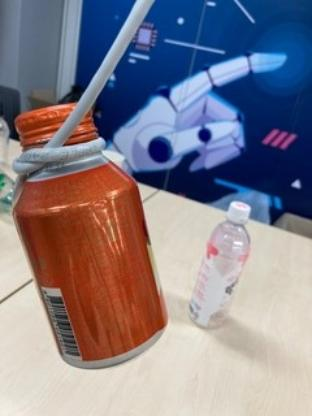Others: (11, 100, 168, 370)
Plastic Bottle: (186, 200, 254, 332)
